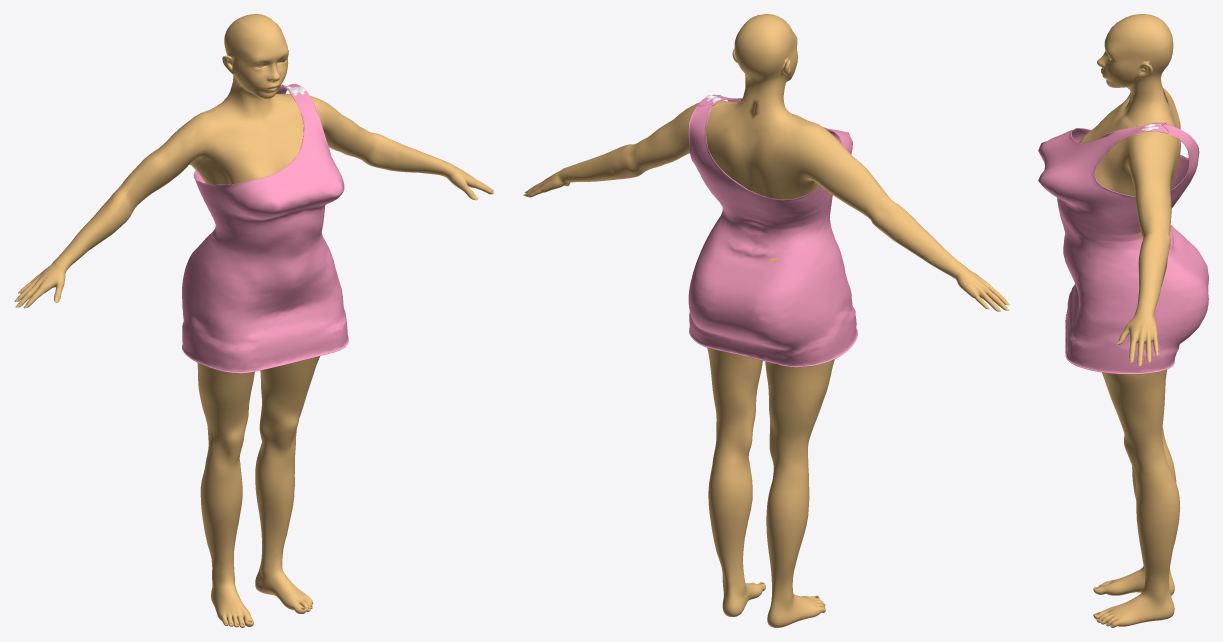
The model's file is dress1.glb.
3 renders of one model, left to right at view 1: azimuth 30°, elevation 25°; view 2: azimuth 150°, elevation 25°; view 3: azimuth 270°, elevation 25°, orthographic.
Parts seen in each view (by area): view 1: Body.003, WhiteDress; view 2: Body.003, WhiteDress; view 3: Body.003, WhiteDress.
Part boxes in pixels (left/top/right/bottom): Body.003: left=16, top=14, right=493, bottom=627; WhiteDress: left=182, top=84, right=348, bottom=373; Body.003: left=525, top=14, right=1007, bottom=627; WhiteDress: left=688, top=94, right=857, bottom=367; Body.003: left=1079, top=14, right=1180, bottom=627; WhiteDress: left=1038, top=122, right=1208, bottom=374.
Bounding box in the file's own units: 1.58 × 1.85 × 0.4848.
